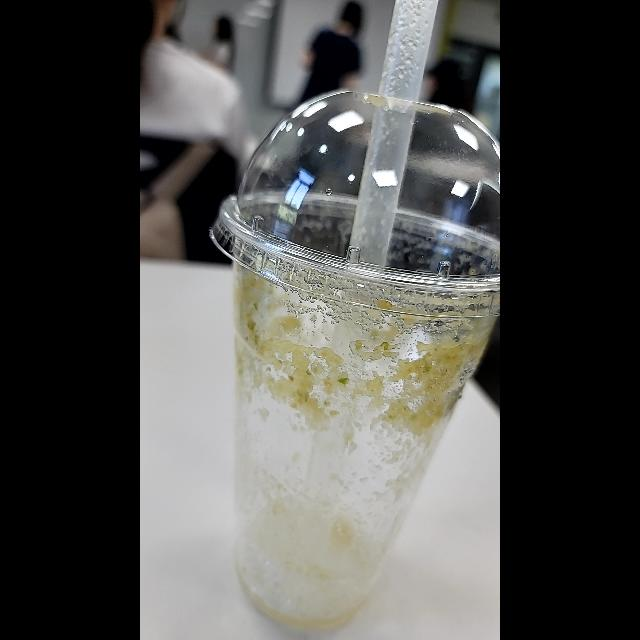plastic_cup: (208, 88, 500, 634)
plastic_cup_lid: (208, 90, 500, 318)
straw: (291, 1, 439, 556)
